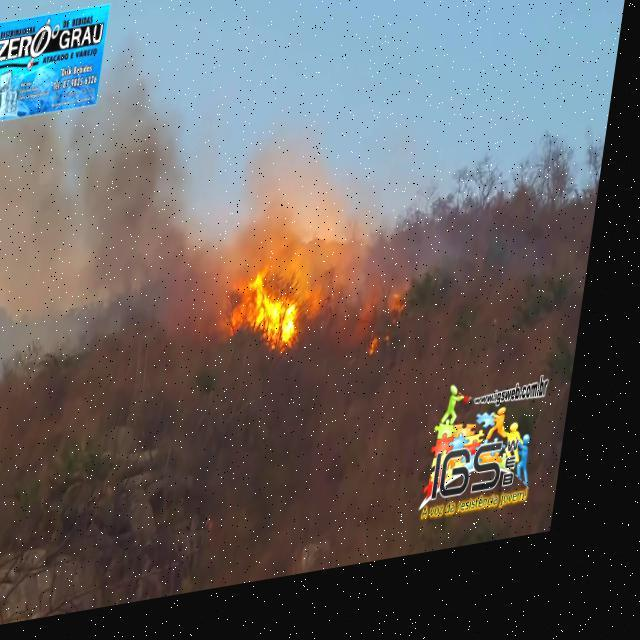Fire: (235, 284, 317, 367), (400, 308, 418, 332), (380, 343, 394, 371)
